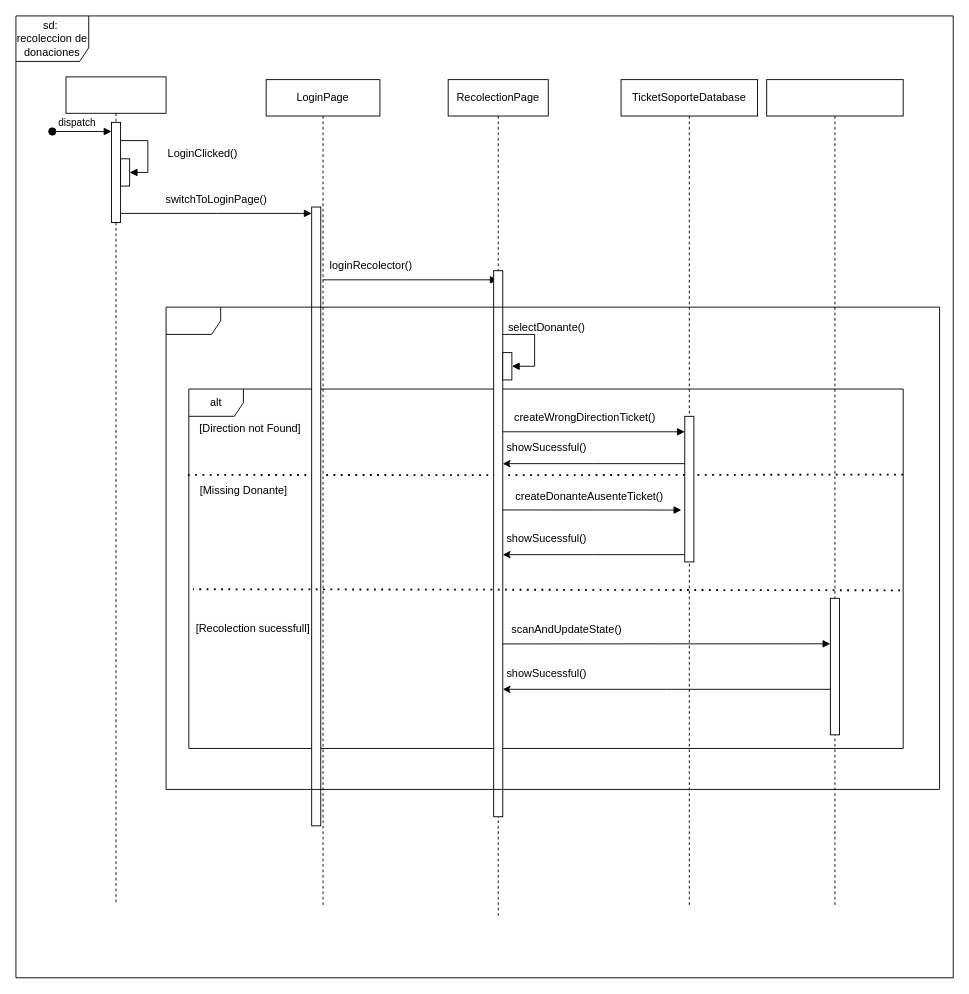
The diagram is 969 pixels wide and 994 high, and some of its shapes have lost their labels. The shapes that lost their labels are listed below. From the top down, each one's box as (x1, y1, x2, y2) in pixels, then its label:
(65, 76, 166, 905): LandingPage
(766, 79, 903, 905): BidonesDatabase
(165, 306, 940, 789): loop
